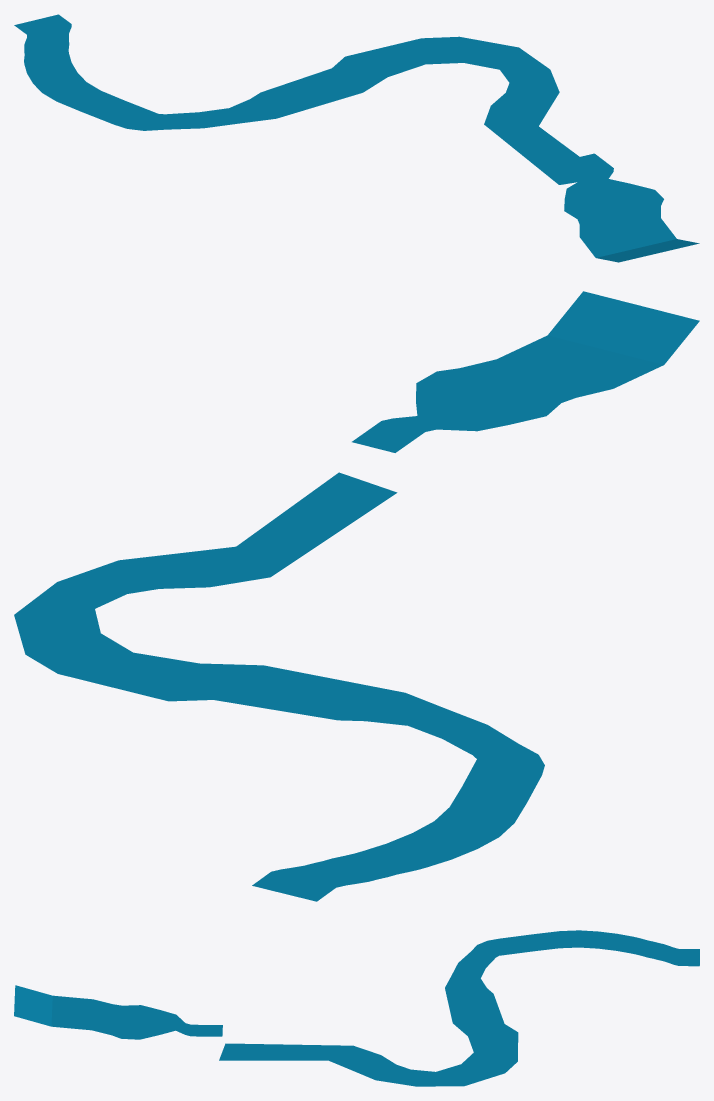
The model's file is watttter.fbx.
3 renders of one model, top to bottom at view 1: azimuth 30°, elevation 25°; view 2: azimuth 150°, elevation 25°; view 3: azimuth 270°, elevation 25°, orthographic. The views are drawn at different scales.
Parts seen in each view (by area): view 1: pPlane1, pPlane2; view 2: pPlane1, pPlane2; view 3: pPlane1, pPlane2.
Part boxes in pixels (<box>): pPlane1: <box>14,14,583,184</box>; pPlane2: <box>564,153,699,262</box>; pPlane1: <box>14,472,544,901</box>; pPlane2: <box>352,291,699,452</box>; pPlane1: <box>219,930,699,1086</box>; pPlane2: <box>14,985,222,1039</box>.
Size of the model in its own units: 135 by 12.12 by 251.
